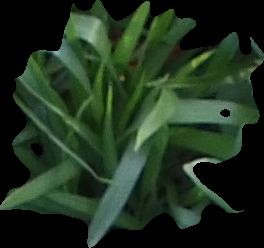grass: (1, 1, 263, 246)
